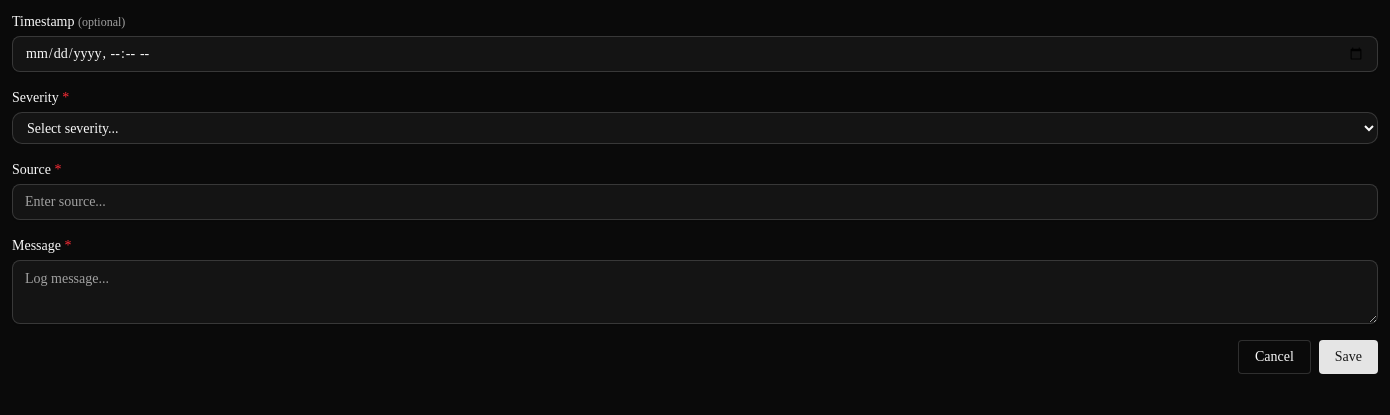
Test: LogForm › shows_source_error_and_does_not_call_onSubmit_when_source_is_empty
Select "INFO" in the dropdown with test id "log-form-severity". click: point(695, 128)
box: [12,112,1378,144]
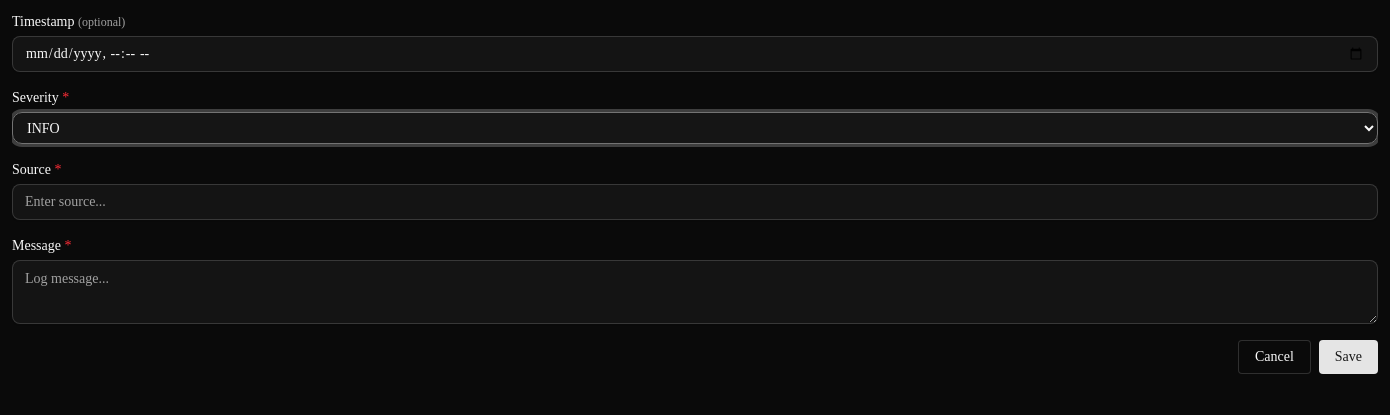
Type "test message" into the text box with test id "log-form-message". click: point(695, 292)
box: [12,260,1378,324]
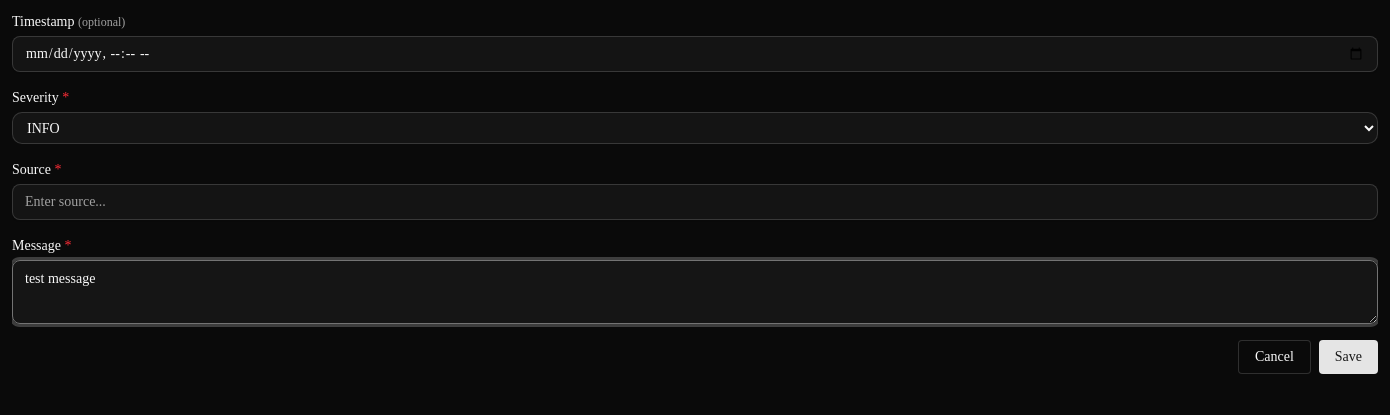
Click the button with test id "log-form-submit". click: point(1348, 357)
box: [1319,340,1378,374]
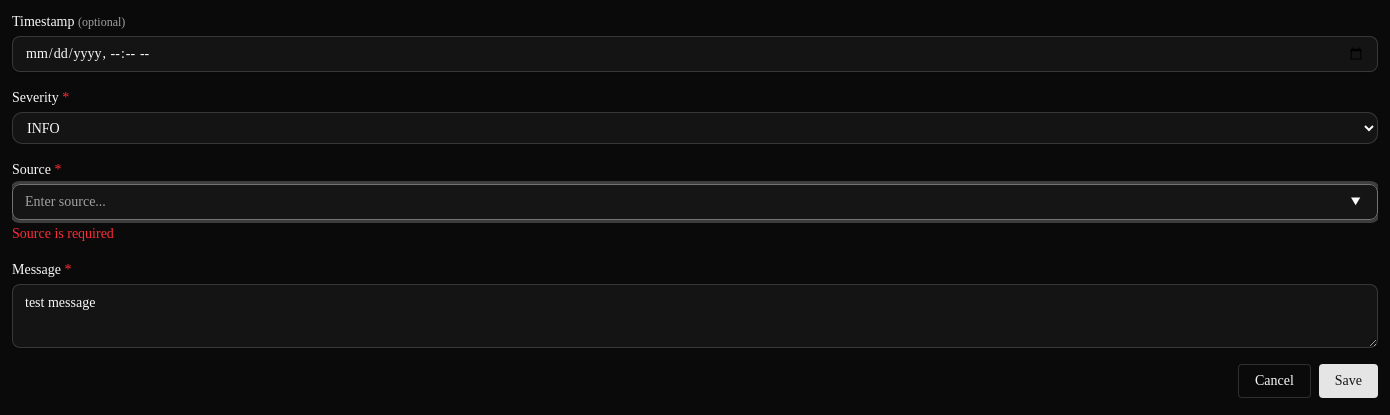
Check: the text with test id "log-form-source-error" reads "Source is required", box [12,226,114,241]
